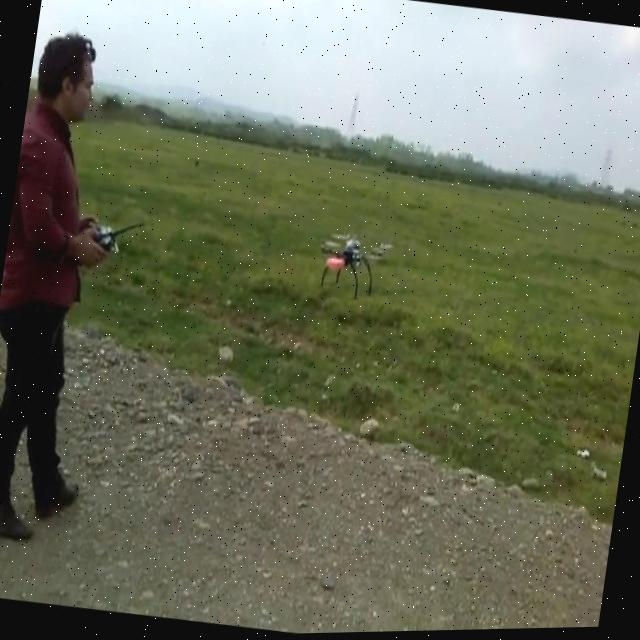drone: (312, 227, 396, 307)
